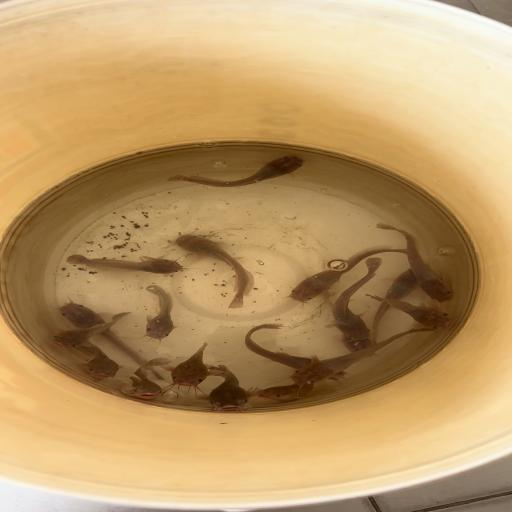lele: (55, 302, 167, 380), (293, 326, 435, 383), (289, 245, 413, 306), (374, 222, 454, 302), (244, 323, 349, 382), (175, 233, 256, 309), (325, 257, 383, 338), (168, 154, 306, 188), (371, 268, 421, 344), (56, 326, 120, 380), (365, 294, 454, 332), (53, 310, 132, 348), (64, 252, 186, 274), (166, 342, 216, 389), (204, 364, 251, 412), (144, 284, 185, 339), (120, 356, 171, 399), (256, 376, 324, 404), (341, 333, 377, 359)
